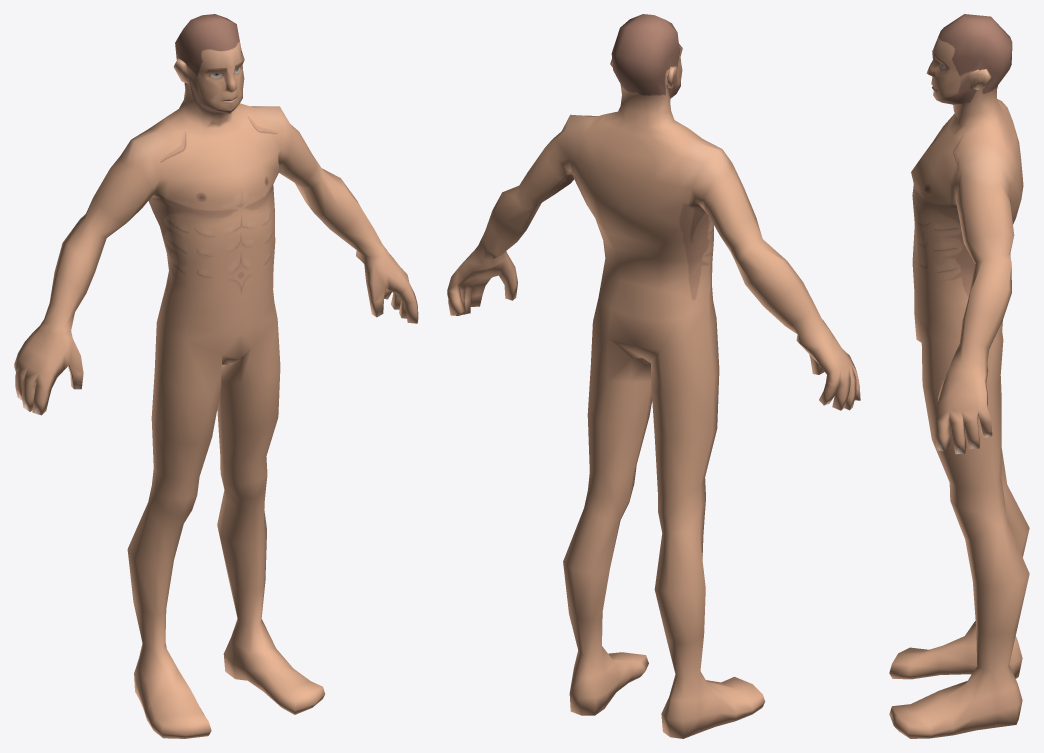
File: Human3.fbx
3 views of the same model, side by side, from view 1: azimuth 30°, elevation 25°; view 2: azimuth 150°, elevation 25°; view 3: azimuth 270°, elevation 25° (orthographic). The views are drawn at different scales.
Parts seen in each view (by area): view 1: Human; view 2: Human; view 3: Human.
Part boxes in pixels (left/top/right/bottom): Human: left=14, top=14, right=418, bottom=738; Human: left=447, top=14, right=860, bottom=738; Human: left=889, top=14, right=1029, bottom=738.
Bounding box in the file's own units: 187 × 311 × 58.08.
1 material, 1 textured.
